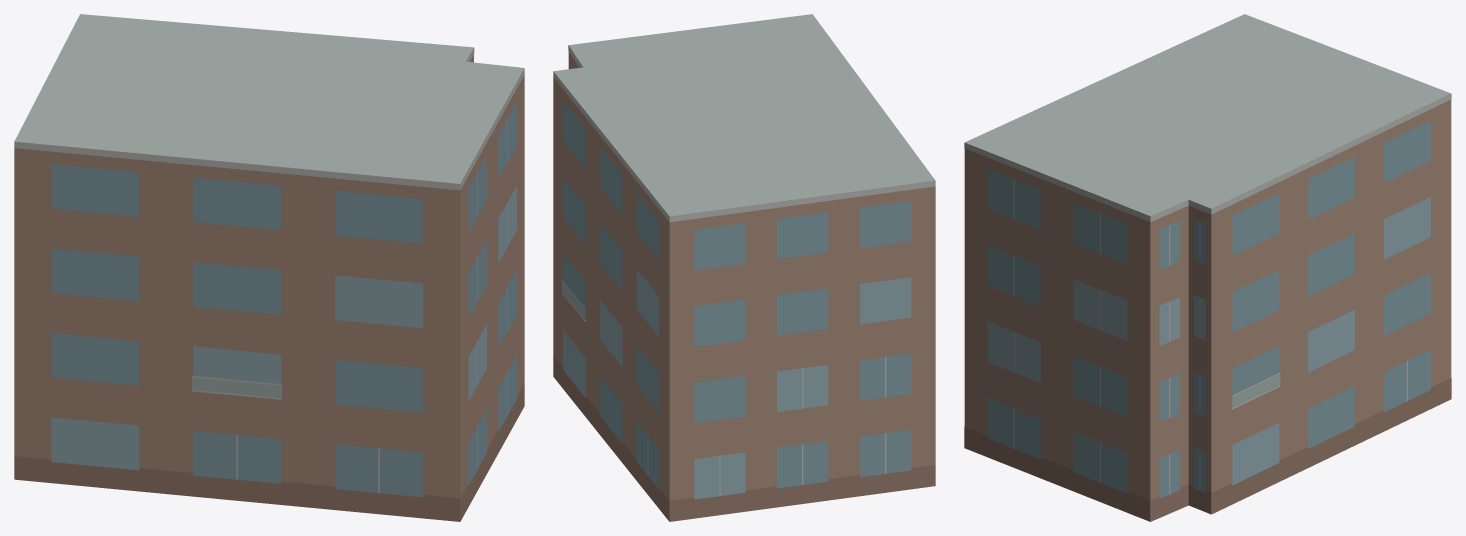
File: survey-upis-32901848.glb
The picture shows the model from 3 angles, left to right: view 1: azimuth 30°, elevation 25°; view 2: azimuth 150°, elevation 25°; view 3: azimuth 270°, elevation 25°; orthographic projection. The views are drawn at different scales.
Parts seen in each view (by area): view 1: survey-upis-32901848.tmp; view 2: survey-upis-32901848.tmp; view 3: survey-upis-32901848.tmp.
Part boxes in pixels (x1,y1,x2,y2): survey-upis-32901848.tmp: (14, 14, 524, 521); survey-upis-32901848.tmp: (553, 14, 935, 521); survey-upis-32901848.tmp: (964, 14, 1451, 521).
Bounding box in the file's own units: 18.17 × 12.8 × 18.49.
